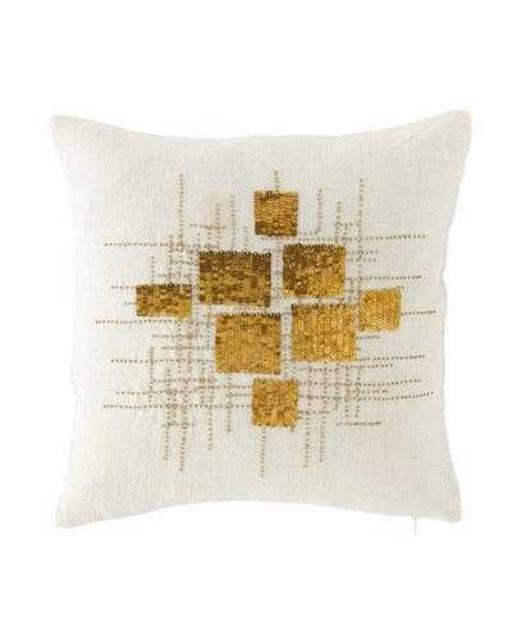pillow: (48, 108, 472, 526)
